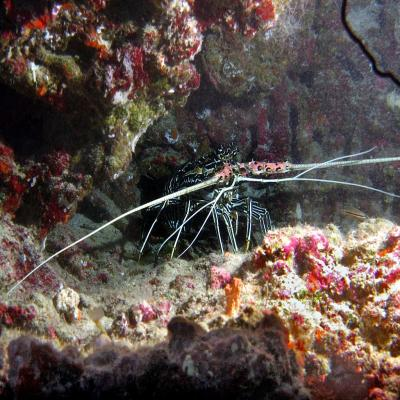lobster: (160, 147, 254, 245)
